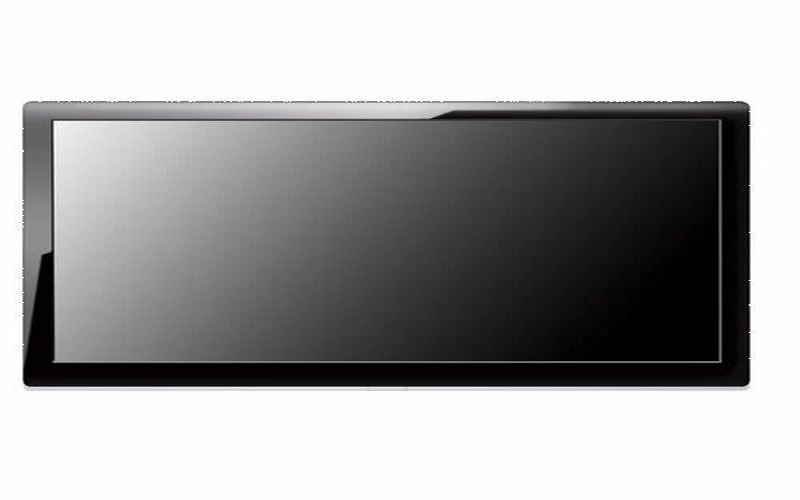LCD: (16, 91, 755, 394)
